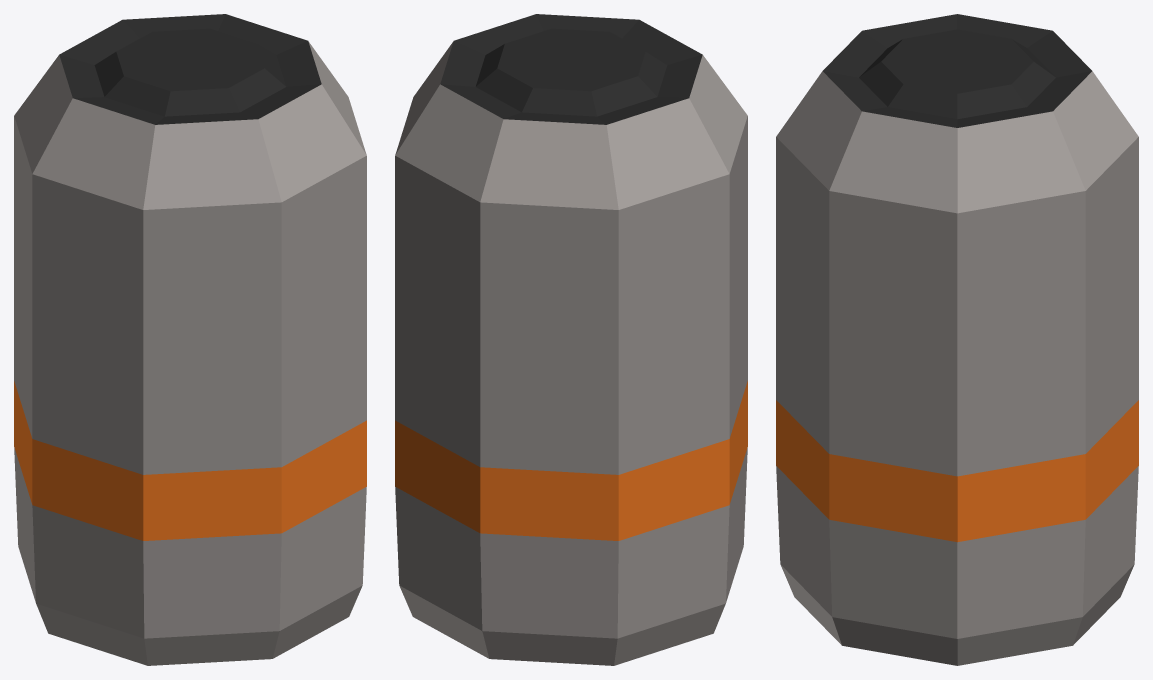
The model's file is scifi_scifi-resource-canister.fbx.
3 views of the same model, side by side, from view 1: azimuth 30°, elevation 25°; view 2: azimuth 150°, elevation 25°; view 3: azimuth 270°, elevation 25° (orthographic).
Visible parts, largest first — view 1: scifi_scifi_resource_canister; view 2: scifi_scifi_resource_canister; view 3: scifi_scifi_resource_canister.
Boxes of the visible parts, <box> form: scifi_scifi_resource_canister: <box>14,14,366,665</box>; scifi_scifi_resource_canister: <box>395,14,747,665</box>; scifi_scifi_resource_canister: <box>776,14,1138,665</box>.
Bounding box in the file's own units: 123 × 200 × 123.
